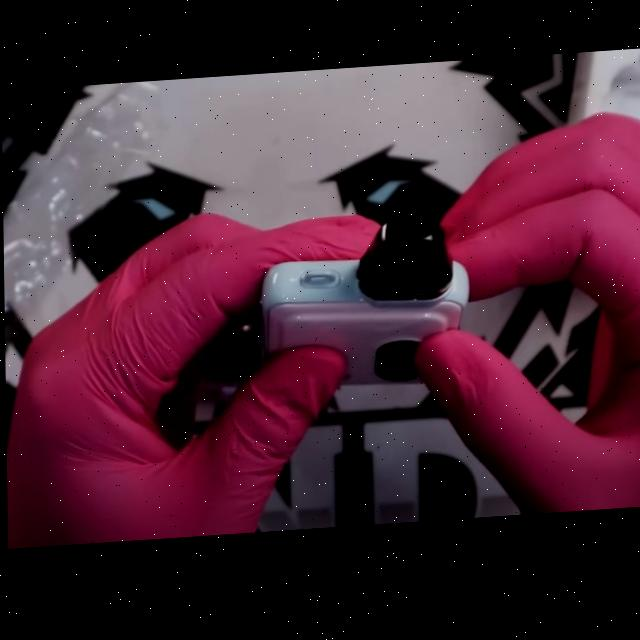vape: (257, 221, 470, 397)
